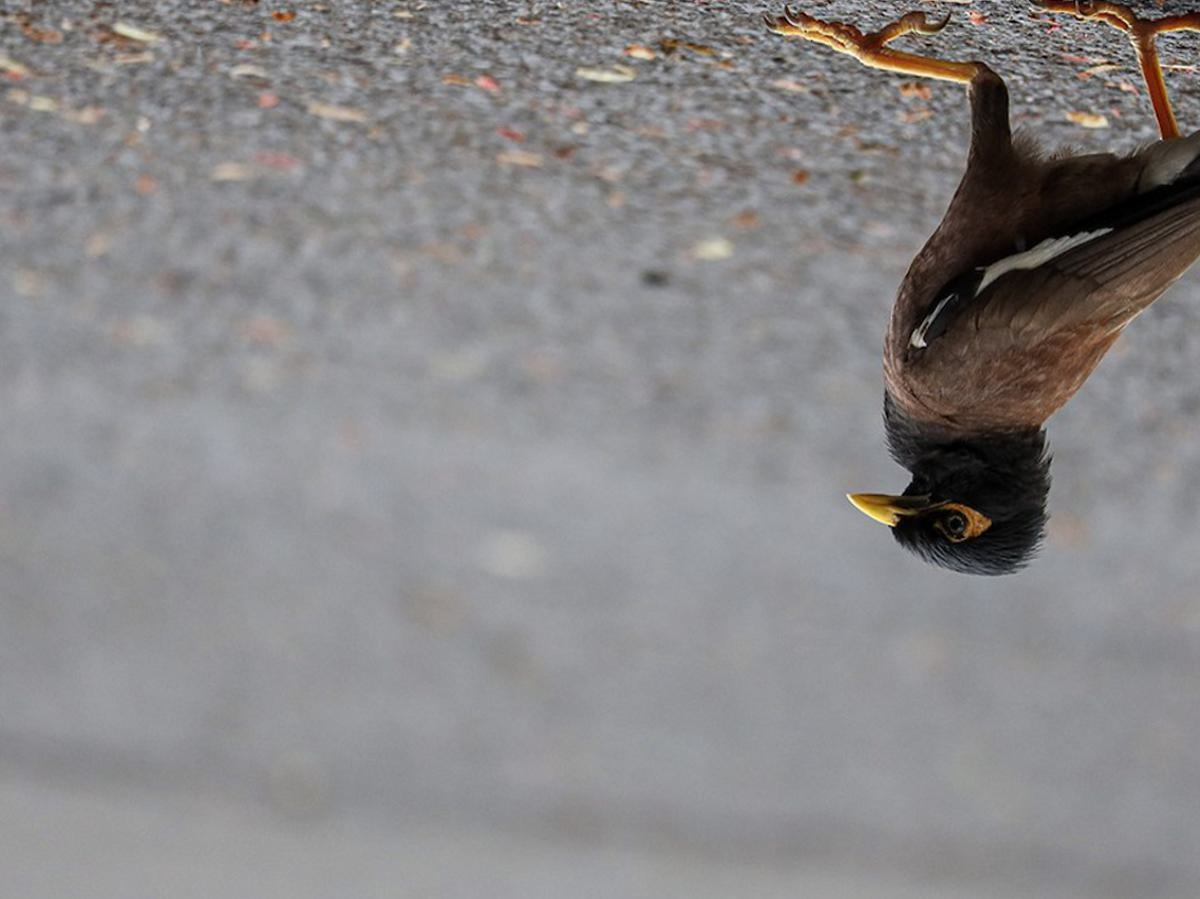myna: (811, 67, 1180, 601)
